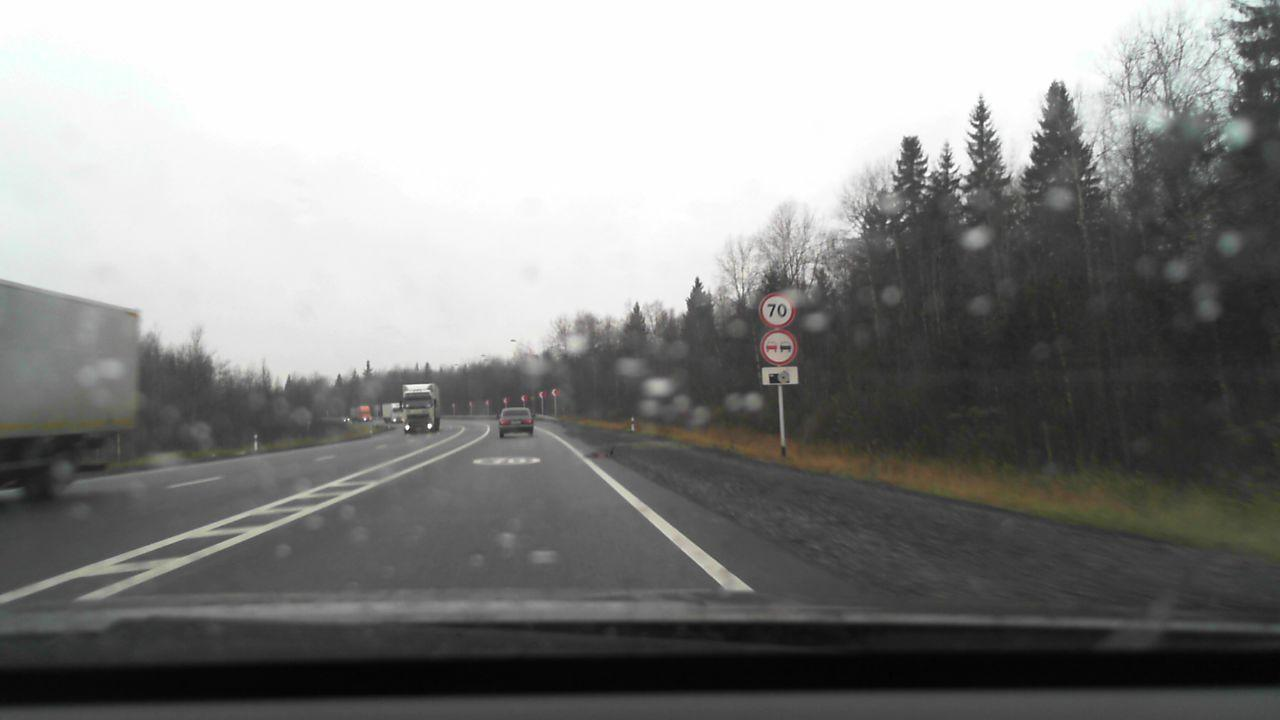1_34_2: (550, 388, 560, 397), (539, 390, 547, 398), (503, 396, 511, 404), (521, 394, 528, 401), (451, 402, 457, 409), (485, 399, 492, 404), (467, 401, 474, 406)
3_20: (760, 330, 800, 365)
3_24: (757, 291, 797, 329)
8_23: (762, 367, 798, 384)
